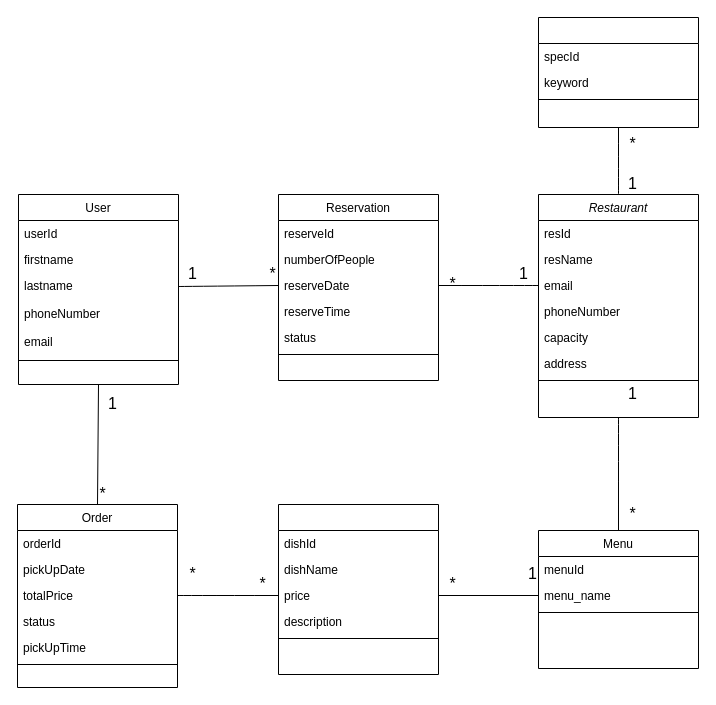
Image size: 716x705. Some labels were removed from this diagram. Here are the shapes that lost their labels. From the top down, the box of each, then its label:
(538, 16, 698, 128): Specilization
(278, 504, 438, 674): Food
